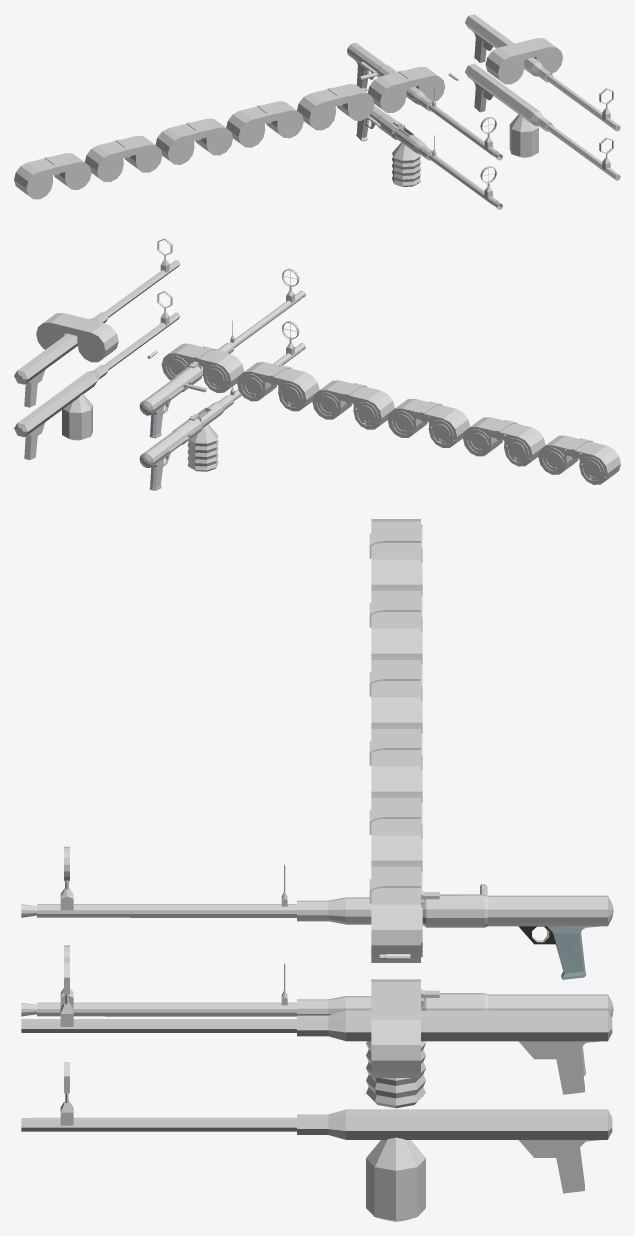
3 renders of one model, top to bottom at view 1: azimuth 30°, elevation 25°; view 2: azimuth 150°, elevation 25°; view 3: azimuth 270°, elevation 25°, orthographic. The views are drawn at different scales.
Visible parts, largest first — view 1: MG15 With Bag Low LOD, MG15 With Bag, MG15 Drum sub 3 rounds, MG15 Drum sub 25 rounds, MG15 Drum sub 50 rounds, MG15 Drum sub 75 rounds, MG15 Drum sub 4 rounds, MG15 Low LOD, MG15 Drum Low LOD, MG15, MG15 Drum Full; view 2: MG15 With Bag Low LOD, MG15 With Bag, MG15 Drum sub 3 rounds, MG15 Drum sub 75 rounds, MG15 Drum sub 4 rounds, MG15 Drum sub 50 rounds, MG15 Drum sub 25 rounds, MG15, MG15 Low LOD, MG15 Drum Low LOD, MG15 Drum Full; view 3: MG15 With Bag Low LOD, MG15 Low LOD, MG15, MG15 With Bag, MG15 Drum Full, MG15 Drum Low LOD, MG15 Drum sub 75 rounds, MG15 Drum sub 25 rounds, MG15 Drum sub 4 rounds, MG15 Drum sub 3 rounds, MG15 Drum sub 50 rounds, MG15 Grip Outline.
Boxes of the visible parts, x1,y1,x2,y2 form: MG15 With Bag Low LOD: (465,63,620,180); MG15 With Bag: (356,105,502,209); MG15 Drum sub 3 rounds: (14,153,91,199); MG15 Drum sub 25 rounds: (155,118,232,164); MG15 Drum sub 50 rounds: (226,101,303,147); MG15 Drum sub 75 rounds: (297,84,374,130); MG15 Drum sub 4 rounds: (85,136,162,182); MG15 Low LOD: (465,14,620,131); MG15 Drum Low LOD: (485,38,562,84); MG15: (347,43,502,160); MG15 Drum Full: (368,67,445,112); MG15 With Bag Low LOD: (14,291,180,459); MG15 With Bag: (139,321,305,490); MG15 Drum sub 3 rounds: (538,435,620,484); MG15 Drum sub 75 rounds: (237,362,319,411); MG15 Drum sub 4 rounds: (463,417,545,466); MG15 Drum sub 50 rounds: (312,380,394,429); MG15 Drum sub 25 rounds: (387,398,470,447); MG15: (139,268,305,438); MG15 Low LOD: (14,238,179,407); MG15 Drum Low LOD: (36,313,118,362); MG15 Drum Full: (161,343,244,392); MG15 With Bag Low LOD: (21,1062,612,1221); MG15 Low LOD: (21,963,612,1094); MG15: (21,846,613,974); MG15 With Bag: (21,945,613,1108); MG15 Drum Full: (369,864,422,962); MG15 Drum Low LOD: (371,979,420,1077); MG15 Drum sub 75 rounds: (369,795,422,869); MG15 Drum sub 25 rounds: (369,657,422,731); MG15 Drum sub 4 rounds: (369,588,422,662); MG15 Drum sub 3 rounds: (369,519,422,593); MG15 Drum sub 50 rounds: (369,726,422,800); MG15 Grip Outline: (518,926,586,979).
Size of the model in its own units: 228 by 51.17 by 109.
